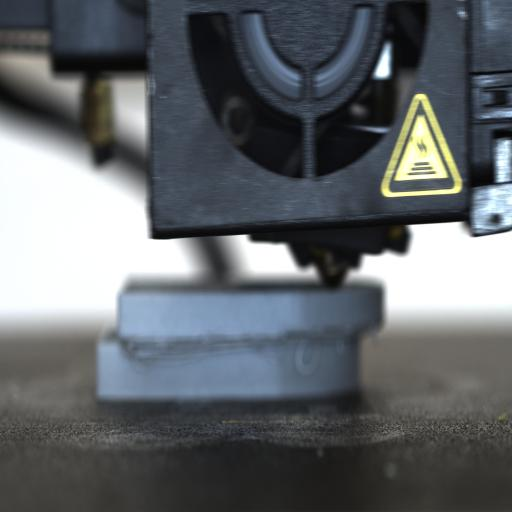layer_shift: (91, 318, 386, 362)
